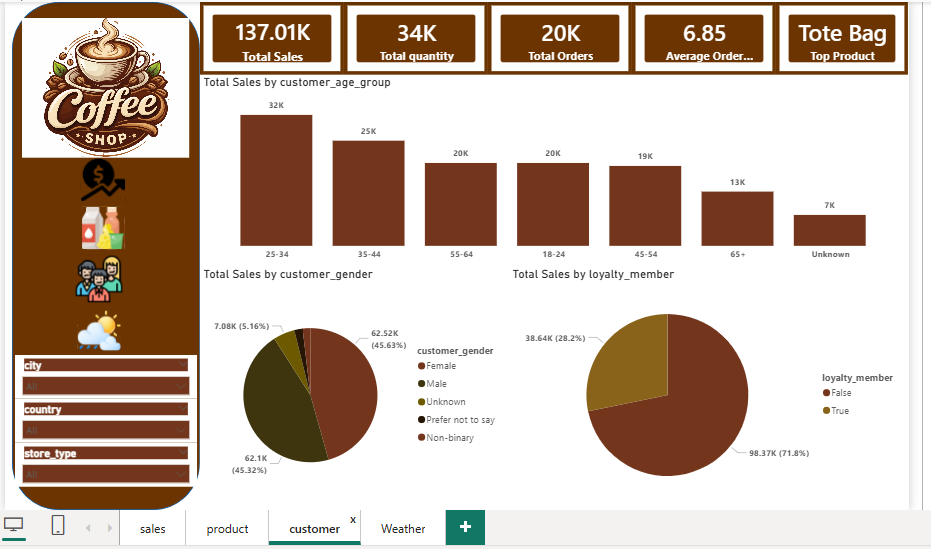

The dashboard page shown, as its layout file describes it:
{"tool":"powerbi","page":{"name":"customer","canvas":[1280,720],"ordinal":2},"visuals":[{"type":"shape","box":[9.9,0,266.5,720],"z":0},{"type":"image","box":[24.1,22.7,236.7,198.4],"z":1000},{"type":"cardVisual","fields":{"Data":["clean_data.Total Sales"]},"box":[276.4,0,204.1,103.5],"z":2000},{"type":"cardVisual","fields":{"Data":["clean_data.Total quantity"]},"box":[480.5,0,204.1,103.5],"z":3000},{"type":"cardVisual","fields":{"Data":["clean_data.Total Orders"]},"box":[684.6,0,204.1,103.5],"z":4000},{"type":"cardVisual","fields":{"Data":["clean_data.Average Order Value"]},"box":[888.7,0,204.1,103.5],"z":5000},{"type":"cardVisual","fields":{"Data":["clean_data.Top Product"]},"box":[1092.8,0,187.1,103.5],"z":6000},{"type":"clusteredColumnChart","fields":{"Category":["clean_data.customer_age_group"],"Y":["clean_data.Total Sales"]},"box":[276.4,103.5,1003.5,272.1],"z":7000},{"type":"pieChart","fields":{"Y":["clean_data.Total Sales"],"Category":["clean_data.customer_gender"]},"box":[276.4,375.6,438,344.4],"z":8000},{"type":"pieChart","fields":{"Category":["clean_data.loyalty_member"],"Y":["clean_data.Total Sales"]},"box":[714,376,565,344],"z":9000},{"type":"actionButton","box":[49.6,215.4,178.6,70.9],"z":10000},{"type":"actionButton","box":[82.2,286.3,113.4,68],"z":11000},{"type":"actionButton","box":[95,354.3,100.6,76.5],"z":12000},{"type":"actionButton","box":[70.9,430.9,124.7,69.4],"z":13000},{"type":"slicer","fields":{"Values":["clean_data.city"]},"box":[14.2,500.3,258,62.4],"z":14000},{"type":"slicer","fields":{"Values":["clean_data.country"]},"box":[14.2,562.7,258,62.4],"z":15000},{"type":"slicer","fields":{"Values":["clean_data.store_type"]},"box":[14.2,625,258,62.4],"z":16000}]}

Visuals, with their boxes on the page's 1280x720 design canvas (x1, y1, x2, y2). These are canvas units, not pixel positions in the 931x549 screenshot, which may show the page scaled, cropped or inside an application window:
shape: crop(10, 0, 276, 720)
image: crop(24, 23, 261, 221)
cardVisual - clean_data.Total Sales: crop(276, 0, 480, 104)
cardVisual - clean_data.Total quantity: crop(480, 0, 685, 104)
cardVisual - clean_data.Total Orders: crop(685, 0, 889, 104)
cardVisual - clean_data.Average Order Value: crop(889, 0, 1093, 104)
cardVisual - clean_data.Top Product: crop(1093, 0, 1280, 104)
clusteredColumnChart - clean_data.customer_age_group x clean_data.Total Sales: crop(276, 104, 1280, 376)
pieChart - clean_data.Total Sales x clean_data.customer_gender: crop(276, 376, 714, 720)
pieChart - clean_data.loyalty_member x clean_data.Total Sales: crop(714, 376, 1279, 720)
actionButton: crop(50, 215, 228, 286)
actionButton: crop(82, 286, 196, 354)
actionButton: crop(95, 354, 196, 431)
actionButton: crop(71, 431, 196, 500)
slicer - clean_data.city: crop(14, 500, 272, 563)
slicer - clean_data.country: crop(14, 563, 272, 625)
slicer - clean_data.store_type: crop(14, 625, 272, 687)
